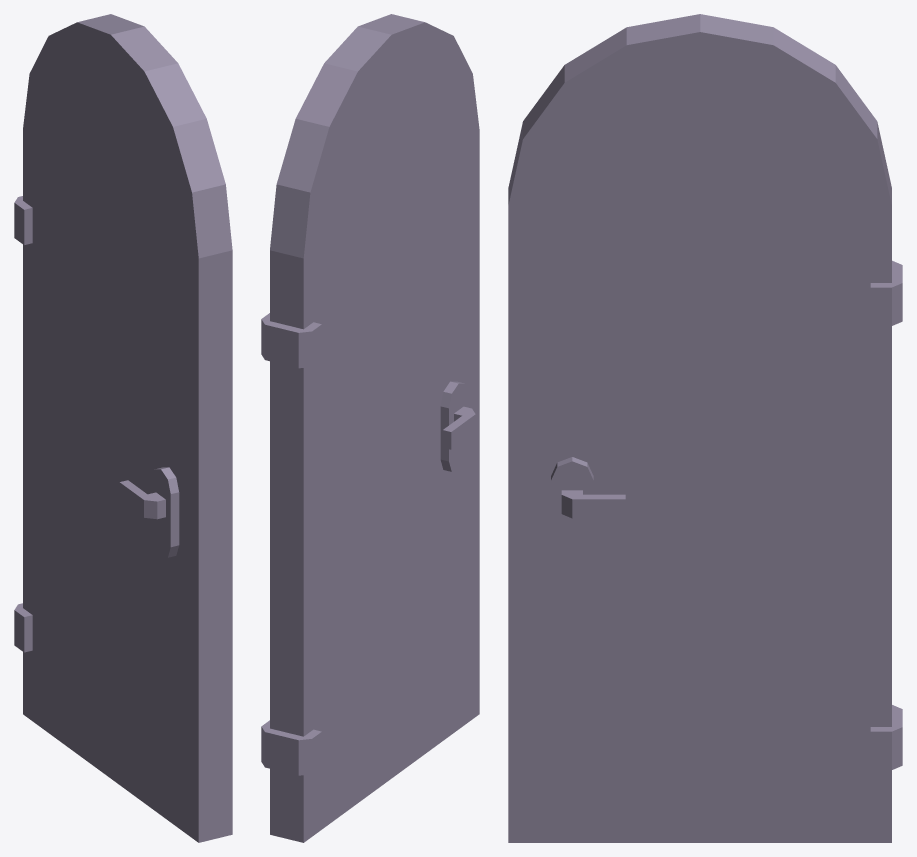
Rendered from door-rotate-round-a.obj.
3 renders of one model, left to right at view 1: azimuth 30°, elevation 25°; view 2: azimuth 150°, elevation 25°; view 3: azimuth 270°, elevation 25°, orthographic. The views are drawn at different scales.
Size of the model in its own units: 0.25 by 2.1 by 0.925.
